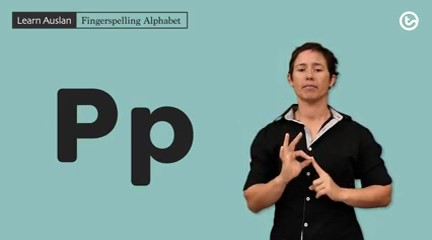P: (276, 125, 343, 209)
